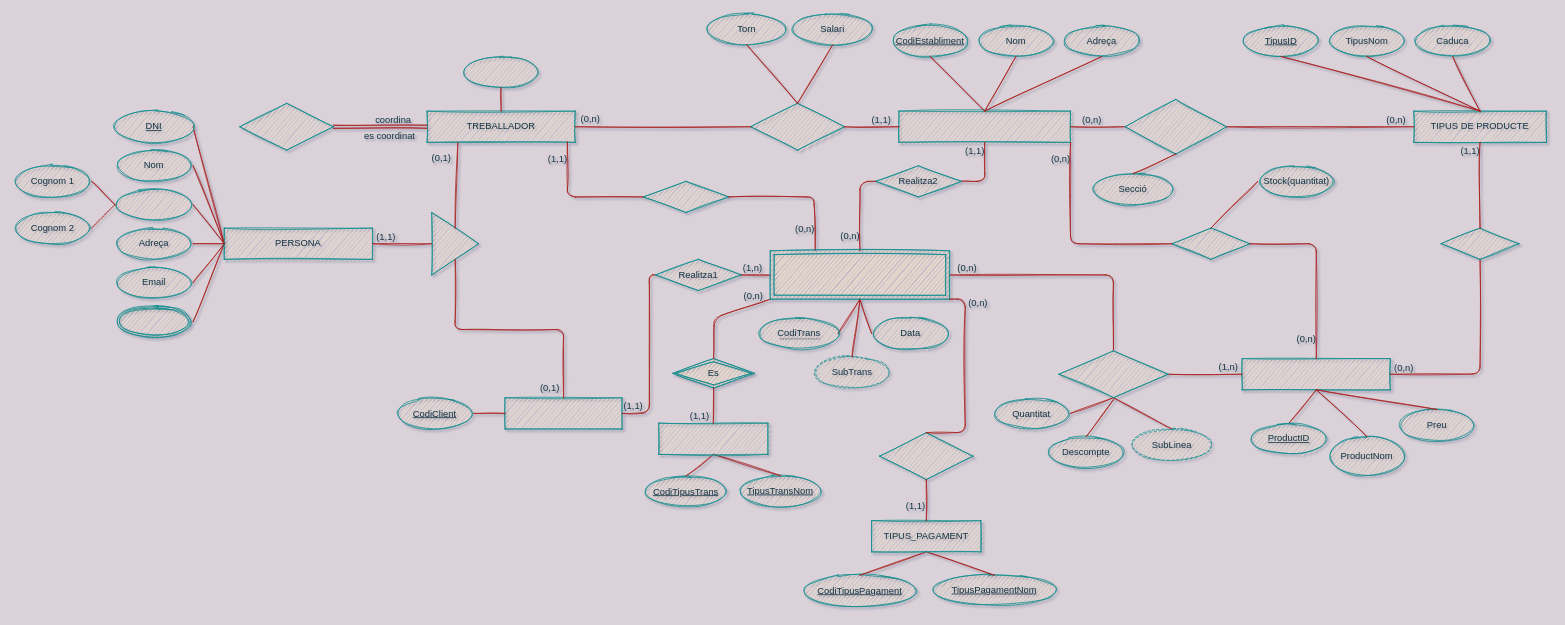
This 1565x625 diagram has some shape labels left out. The box of each missing label's shape, as (x1, y1, x2, y2) in pixels:
Classifiquen: (1440, 227, 1519, 259)
CLIENT: (504, 397, 622, 429)
CodiTreballador: (461, 56, 540, 88)
Cognoms: (114, 188, 193, 220)
Contenen: (1058, 350, 1168, 398)
Cordina: (239, 103, 333, 150)
Despatxa: (642, 181, 729, 213)
Divideixen: (1124, 99, 1227, 154)
ES E,T: (431, 212, 479, 275)
ESTABLIMENT: (898, 110, 1071, 142)
Paga: (879, 432, 973, 480)
PRODUCTE: (1241, 358, 1390, 390)
telefons: (114, 305, 193, 337)
Tenen: (1171, 227, 1250, 259)
TIPUS_TRANS: (658, 422, 768, 454)
TRANSACCIO: (769, 250, 950, 299)
Treballa: (750, 103, 844, 150)
